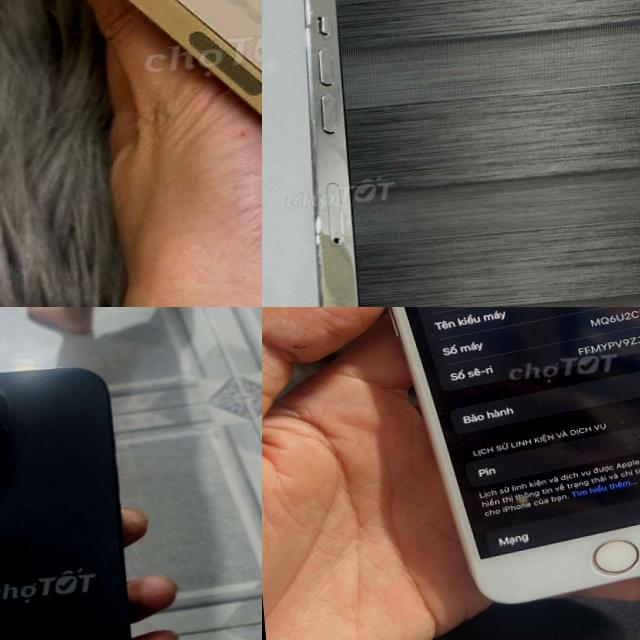gen_12_13: (0, 0, 262, 267)
gen_14: (0, 349, 158, 640), (262, 0, 402, 307)
gen_7_8: (342, 307, 640, 615)
